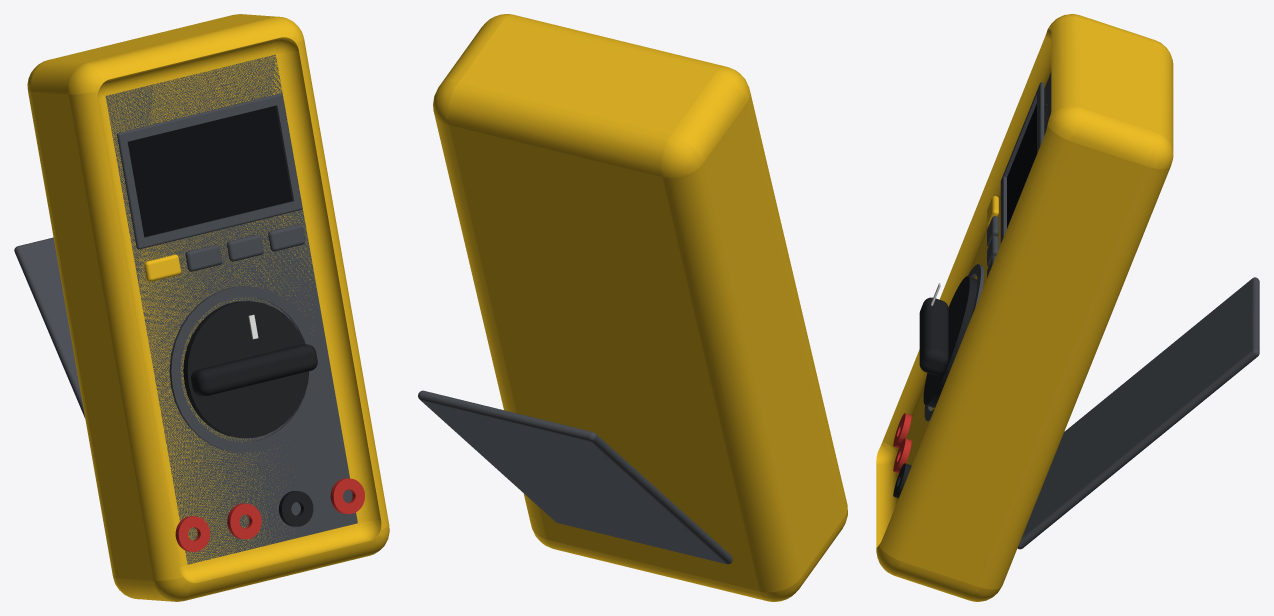
The model's file is multimeter.glb.
3 views of the same model, side by side, from view 1: azimuth 30°, elevation 25°; view 2: azimuth 150°, elevation 25°; view 3: azimuth 270°, elevation 25° (orthographic). The views are drawn at different scales.
Visible parts, largest first — view 1: dmm_holster, dmm_body, dmm_lcd, dial, lcd_bezel, dial_ring, dmm_stand, jack_ma, jack_com, jack_v, jack_a, btn_1 (+3 smaller); view 2: dmm_holster, dmm_stand; view 3: dmm_holster, dmm_stand, dial, dmm_lcd, lcd_bezel.
Boxes of the visible parts, x1,y1,x2,y2 form: dmm_holster: [27, 14, 389, 601]; dmm_body: [105, 54, 357, 564]; dmm_lcd: [127, 105, 292, 237]; dial: [183, 301, 317, 437]; lcd_bezel: [117, 93, 302, 249]; dial_ring: [169, 286, 318, 452]; dmm_stand: [14, 237, 85, 418]; jack_ma: [227, 503, 261, 539]; jack_com: [279, 491, 313, 526]; jack_v: [330, 478, 364, 514]; jack_a: [175, 516, 210, 551]; btn_1: [144, 254, 181, 281]; dmm_holster: [433, 14, 847, 601]; dmm_stand: [418, 390, 732, 564]; dmm_holster: [876, 14, 1173, 601]; dmm_stand: [1017, 277, 1259, 549]; dial: [919, 276, 977, 407]; dmm_lcd: [1007, 103, 1036, 228]; lcd_bezel: [1000, 82, 1044, 243].
Size of the model in its own units: 0.09 by 0.1842 by 0.1297.
